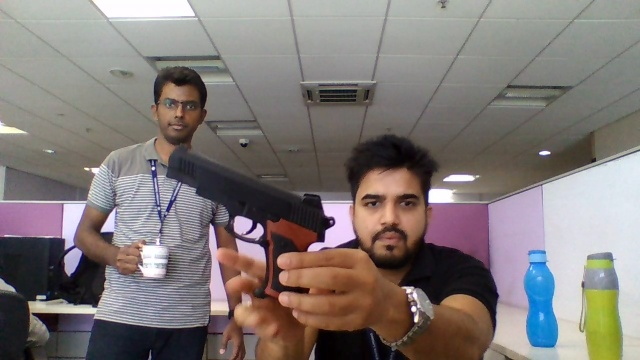gun: (166, 144, 336, 249)
